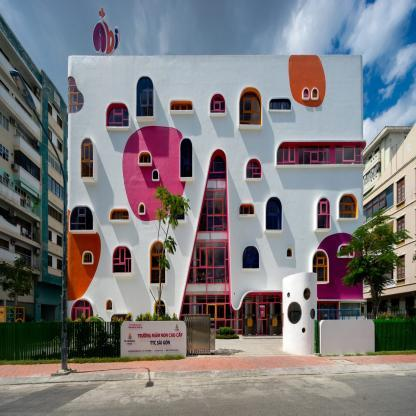Building Outline: (0, 5, 410, 362)
Deco: (92, 6, 121, 56)
Door: (268, 303, 283, 335), (242, 303, 257, 335)
Facade: (67, 5, 368, 355)
Floor Slab: (67, 285, 363, 292), (68, 181, 363, 188), (68, 233, 363, 240)
Glass Wall: (177, 155, 242, 335), (316, 303, 337, 334), (258, 303, 267, 334)
Window: (277, 145, 363, 165), (239, 91, 261, 125), (137, 79, 153, 116), (151, 242, 165, 283), (68, 78, 83, 114), (70, 207, 93, 230), (180, 139, 192, 178), (72, 300, 93, 321), (113, 248, 131, 272), (108, 106, 129, 126), (82, 139, 93, 177), (266, 201, 280, 230), (313, 252, 327, 281), (317, 198, 330, 229), (339, 195, 356, 218), (242, 247, 259, 268), (340, 303, 362, 316), (170, 201, 185, 220), (243, 295, 282, 302), (210, 97, 225, 113), (111, 314, 131, 325), (156, 301, 165, 322), (269, 101, 290, 109), (111, 211, 129, 219), (340, 246, 353, 256), (171, 104, 192, 110), (239, 206, 253, 214), (140, 155, 151, 163), (83, 253, 92, 262), (106, 300, 112, 310), (153, 171, 158, 179), (312, 90, 317, 97), (304, 90, 308, 97), (140, 207, 144, 213), (287, 250, 290, 257)
